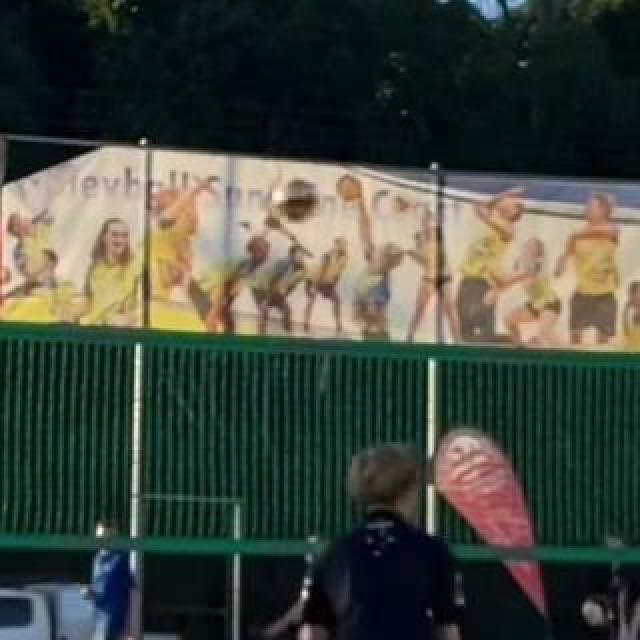volleyball: (270, 176, 316, 222)
